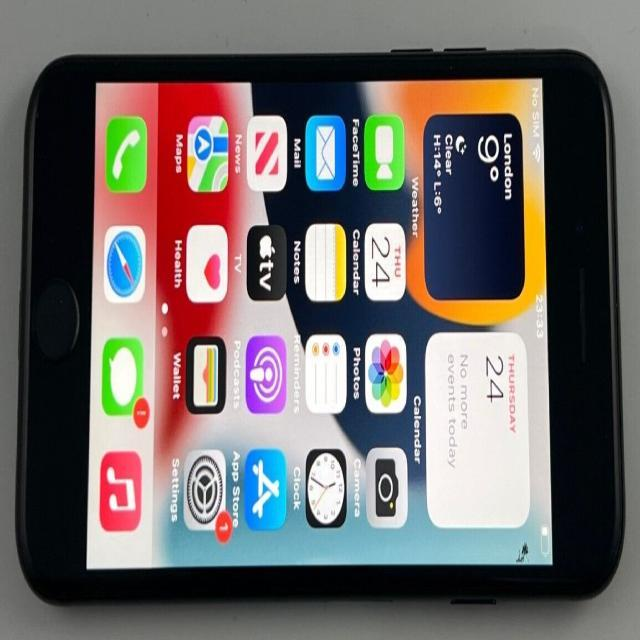dead pixel: (496, 523, 547, 581)
